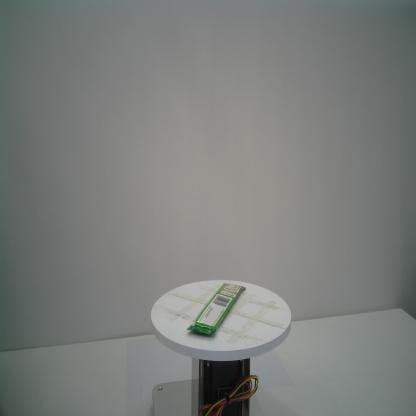Chocolate: (186, 283, 246, 335)
